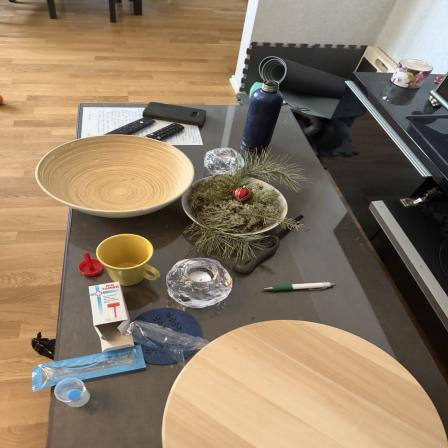blue_bottle: (247, 86, 283, 152)
phone: (145, 100, 214, 126)
yellow_cup: (98, 235, 161, 288)
